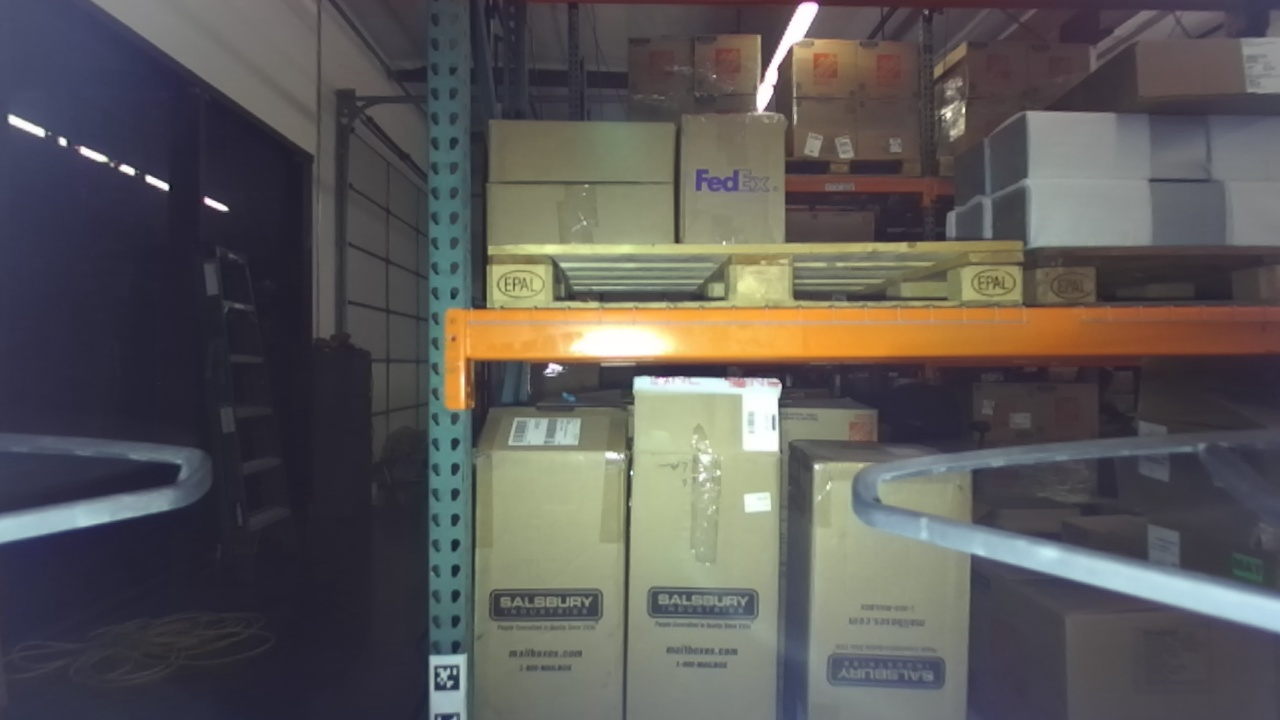box: (621, 372, 791, 720), (789, 423, 980, 720), (475, 397, 630, 720), (669, 97, 797, 262), (483, 109, 680, 191), (1074, 28, 1280, 101), (477, 179, 681, 243)
